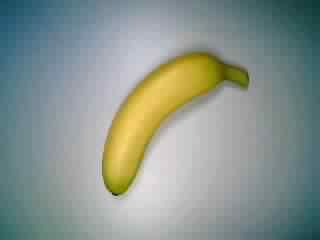banana: (97, 47, 255, 201)
